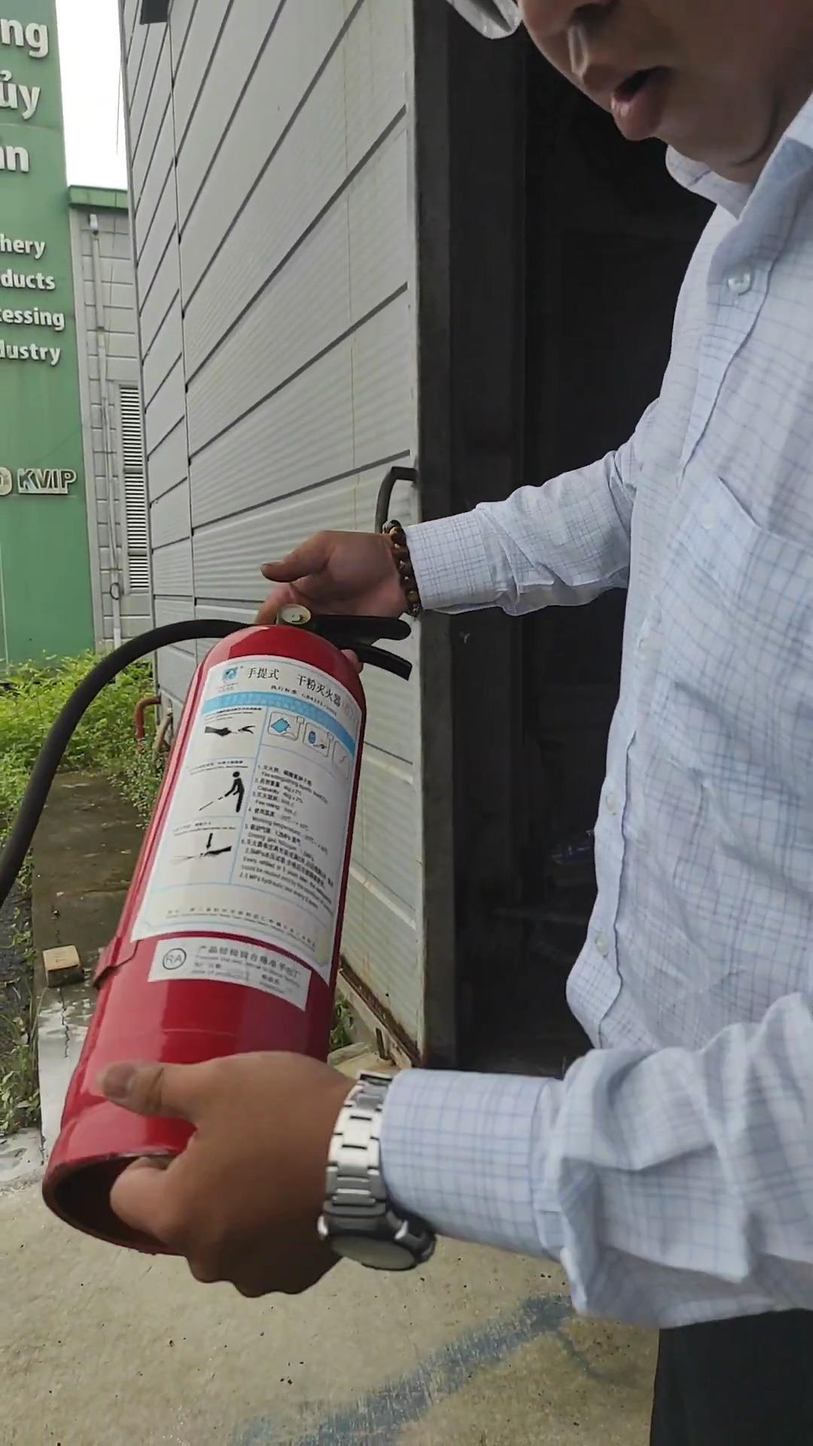FireExtinguisher: (32, 588, 434, 1262)
